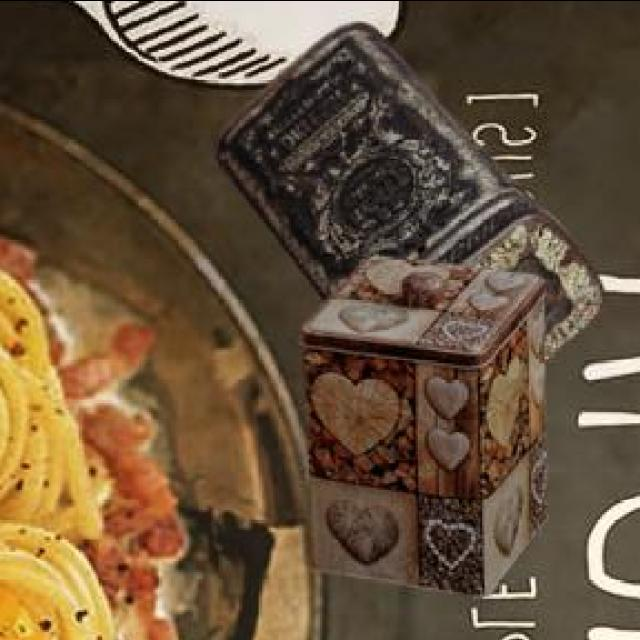logam: (219, 26, 606, 363), (303, 259, 550, 601)
